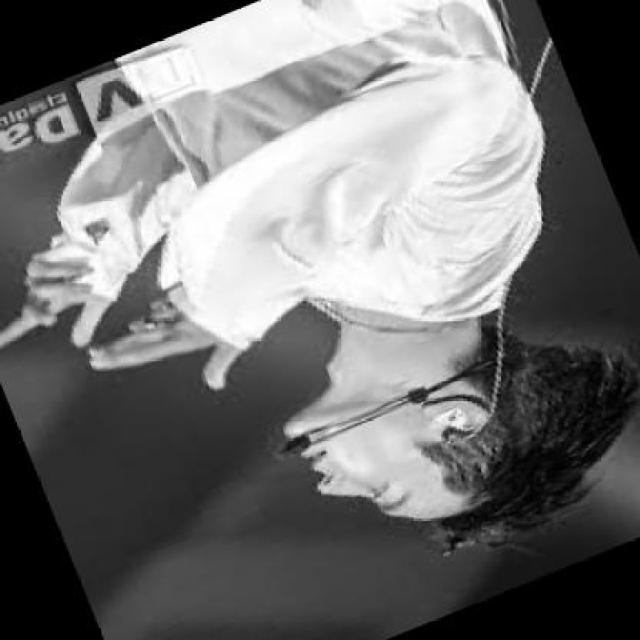earphone: (439, 402, 472, 445)
